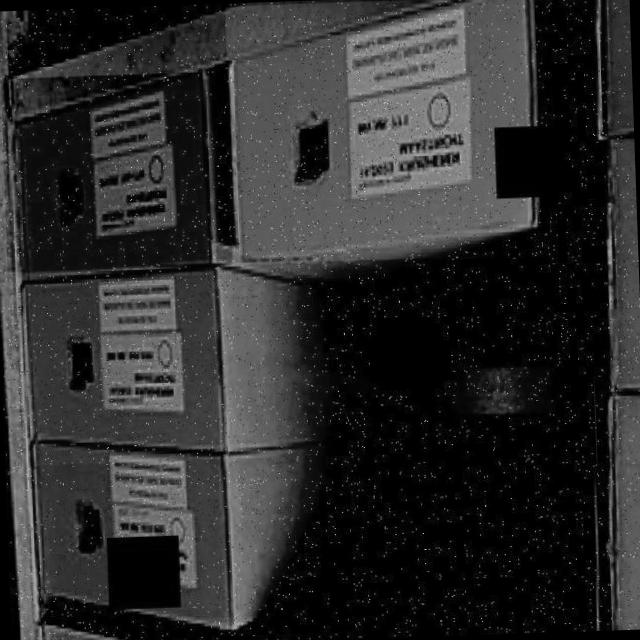box: (224, 0, 582, 301), (6, 257, 443, 466), (27, 428, 379, 623), (1, 70, 232, 288)
